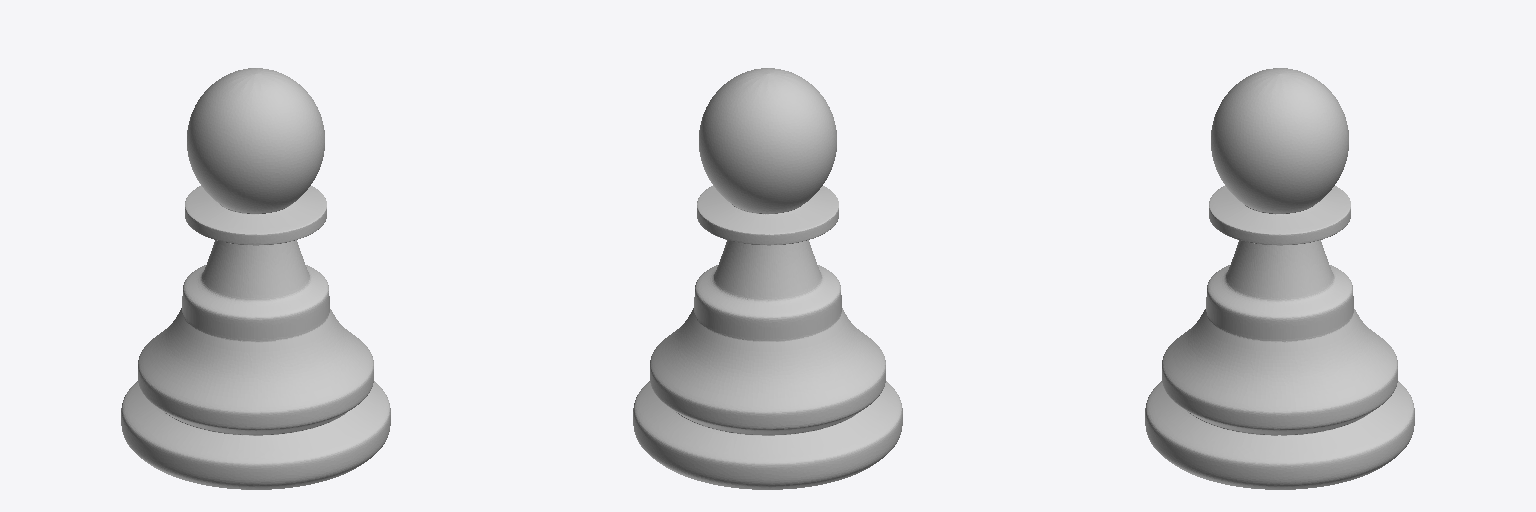
Rendered from pawn-white-sphere.obj.
The picture shows the model from 3 angles: view 1: azimuth 30°, elevation 25°; view 2: azimuth 150°, elevation 25°; view 3: azimuth 270°, elevation 25°; orthographic projection.
Parts seen in each view (by area): view 1: Group51325.001; view 2: Group51325.001; view 3: Group51325.001.
Boxes of the visible parts, box(x1,y1,x2,y2) form: Group51325.001: box(121, 68, 390, 489); Group51325.001: box(633, 68, 902, 489); Group51325.001: box(1145, 68, 1414, 489).
Bounding box in the file's own units: 0.9602 × 1.43 × 0.9602.